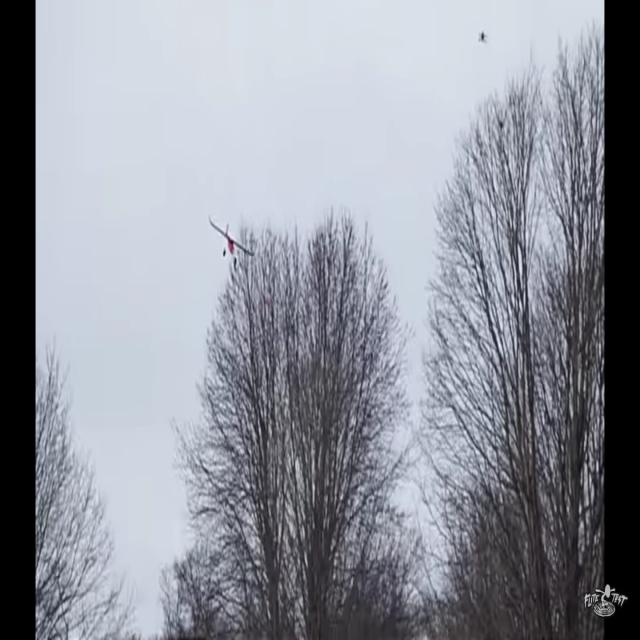iha: (209, 214, 255, 270)
